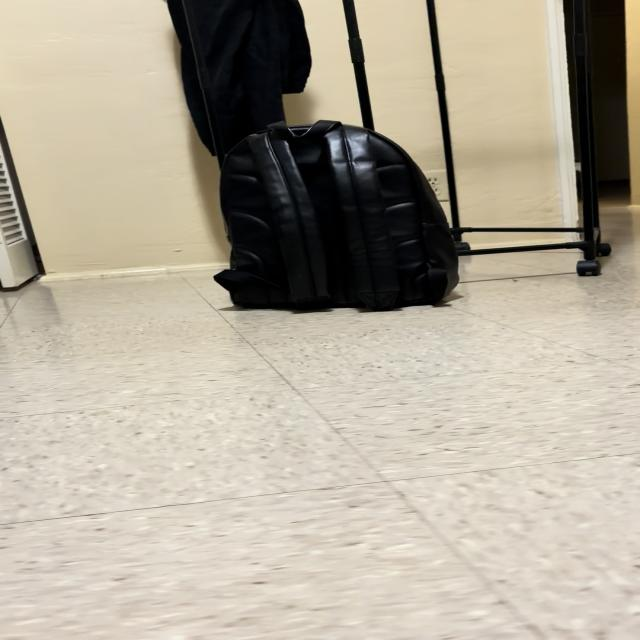backpack: (215, 121, 458, 310)
